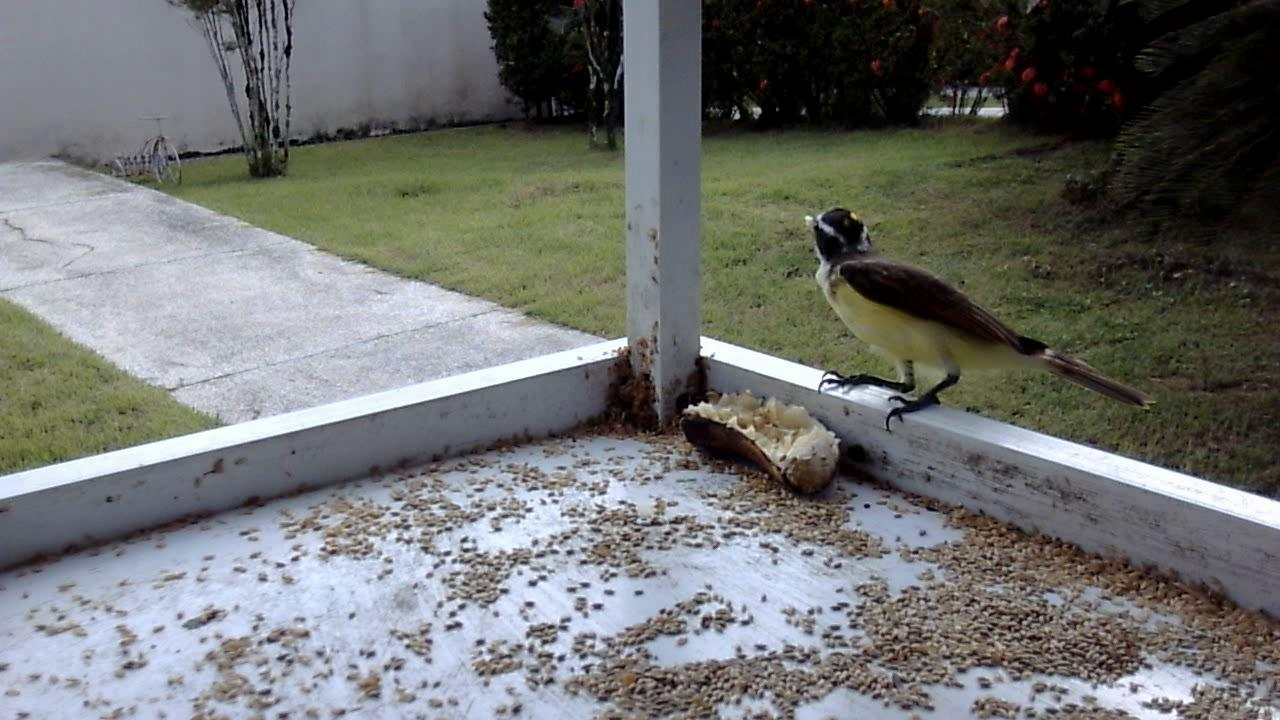bem_te_vi: (794, 203, 1150, 441)
